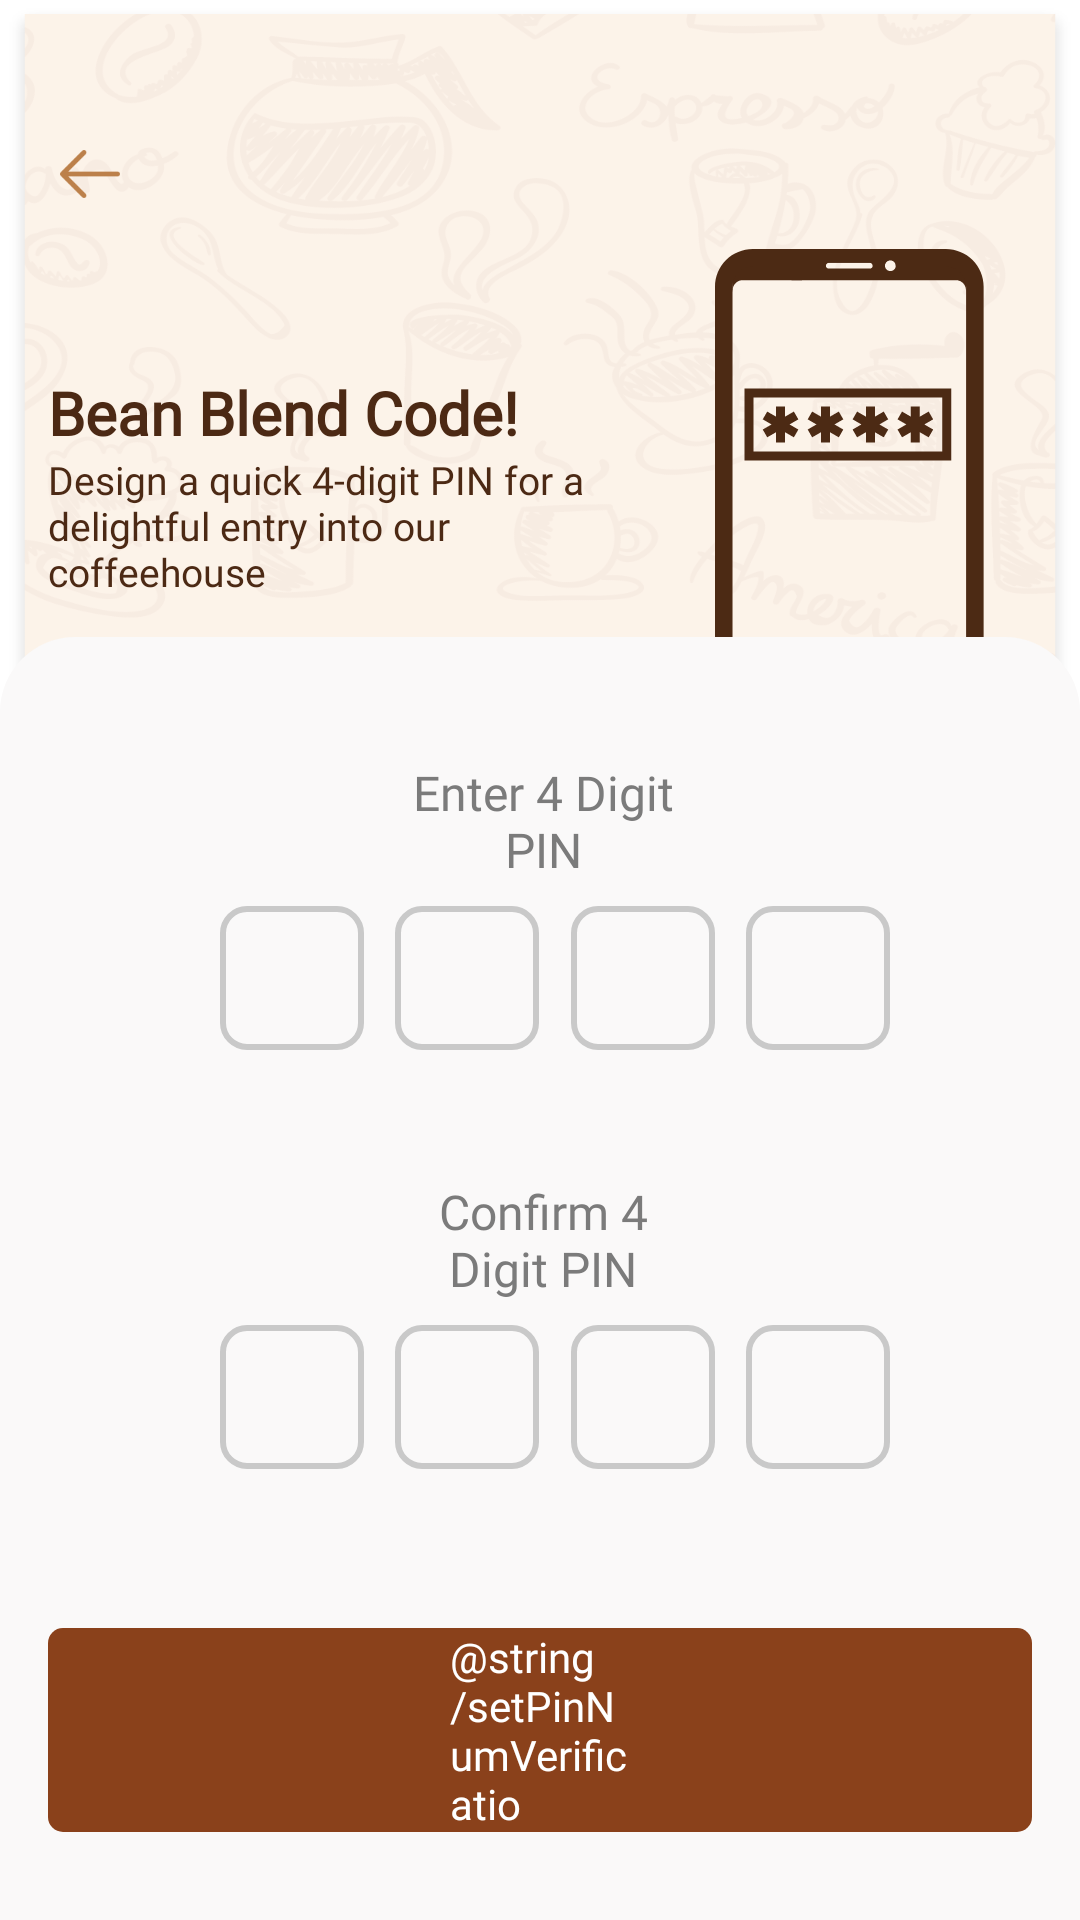

Icon click points for this 1080x1920 phone screenshot, format (x=x, y=y):
back: (x=90, y=174)
